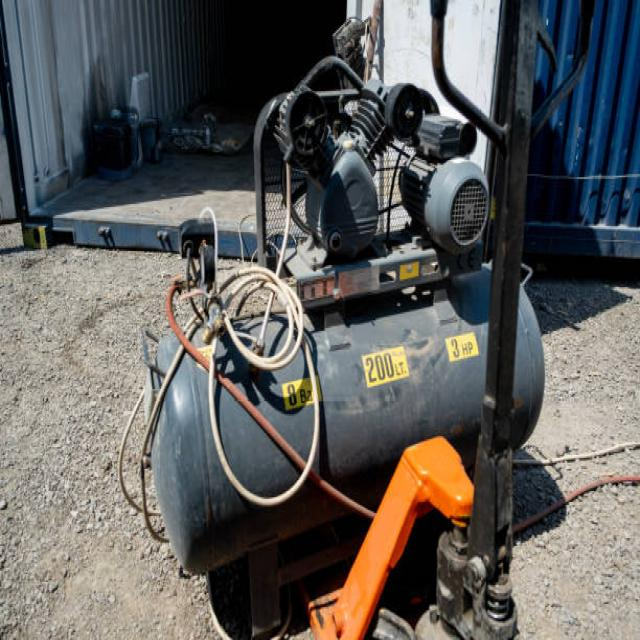compressor: (131, 41, 548, 635)
